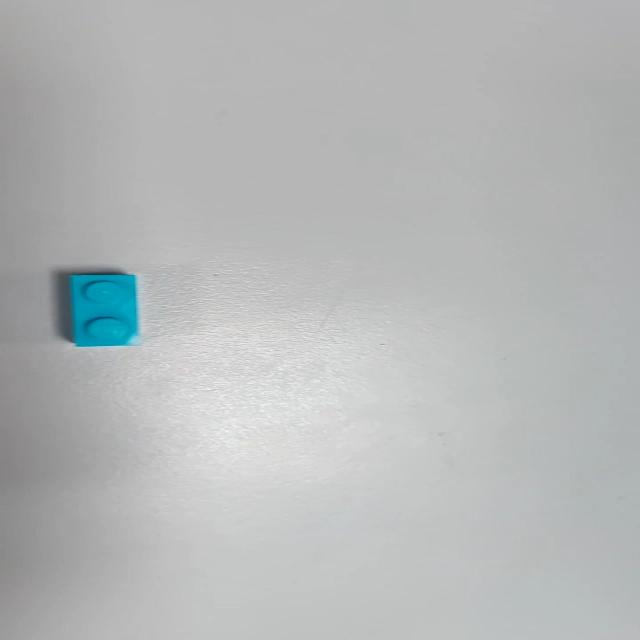C2x1x1: (66, 273, 140, 347)
